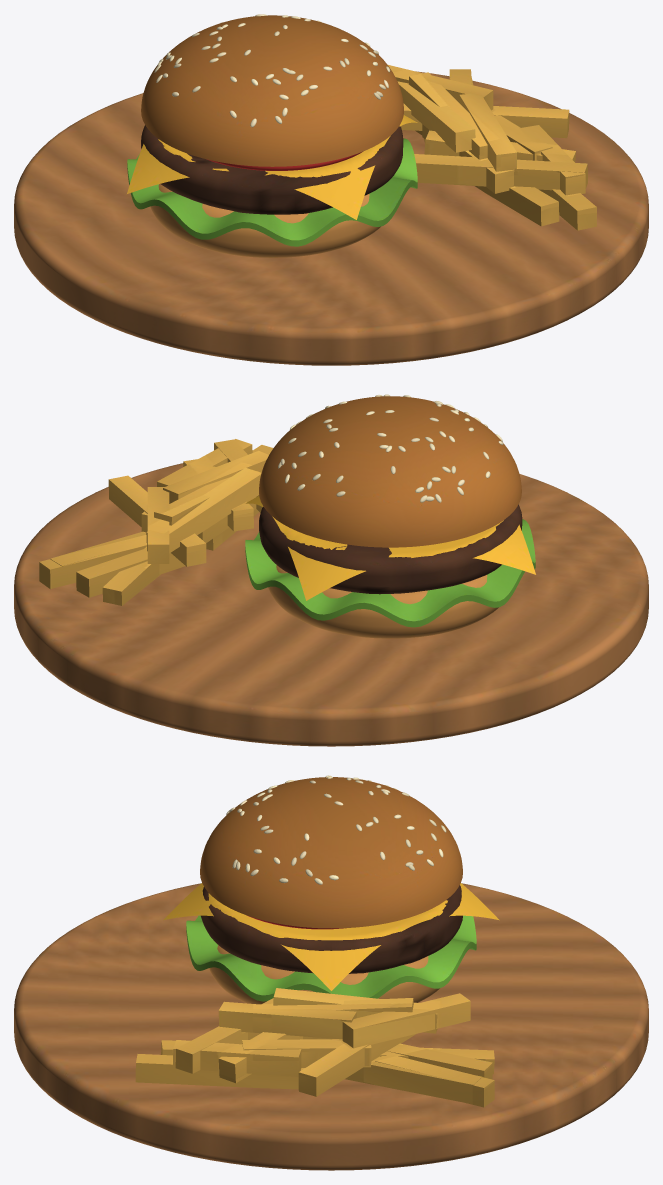
File: hamburguesa.glb
3 views of the same model, one above another, from view 1: azimuth 30°, elevation 25°; view 2: azimuth 150°, elevation 25°; view 3: azimuth 270°, elevation 25° (orthographic).
Visible parts, largest first — view 1: tabla, pan_superior, papas, carne, lechuga, pan_inferior, queso, ajonjoli, tomate; view 2: tabla, pan_superior, papas, carne, lechuga, pan_inferior, queso, ajonjoli; view 3: tabla, pan_superior, papas, carne, lechuga, queso, pan_inferior, ajonjoli.
Part boxes in pixels (left/top/right/bottom): tabla: left=14, top=71, right=648, bottom=365; pan_superior: left=141, top=15, right=403, bottom=166; papas: left=388, top=65, right=596, bottom=230; carne: left=141, top=125, right=403, bottom=214; lechuga: left=127, top=138, right=417, bottom=246; pan_inferior: left=150, top=184, right=380, bottom=257; queso: left=127, top=115, right=417, bottom=219; ajonjoli: left=154, top=14, right=390, bottom=127; tomate: left=207, top=151, right=362, bottom=170; tabla: left=14, top=463, right=648, bottom=746; pan_superior: left=259, top=396, right=521, bottom=547; papas: left=39, top=439, right=273, bottom=605; carne: left=259, top=504, right=522, bottom=594; lechuga: left=245, top=519, right=535, bottom=627; pan_inferior: left=268, top=565, right=498, bottom=638; queso: left=245, top=496, right=535, bottom=600; ajonjoli: left=278, top=394, right=503, bottom=502; tabla: left=14, top=883, right=648, bottom=1170; pan_superior: left=200, top=777, right=462, bottom=928; papas: left=135, top=988, right=494, bottom=1107; carne: left=201, top=885, right=462, bottom=973; lechuga: left=186, top=915, right=476, bottom=1001; queso: left=163, top=883, right=499, bottom=990; pan_inferior: left=209, top=945, right=439, bottom=1004; ajonjoli: left=226, top=775, right=446, bottom=884.
Bounding box in the file's own units: 0.28 × 0.1058 × 0.28.
Materials: 9 (9 with a texture image).
